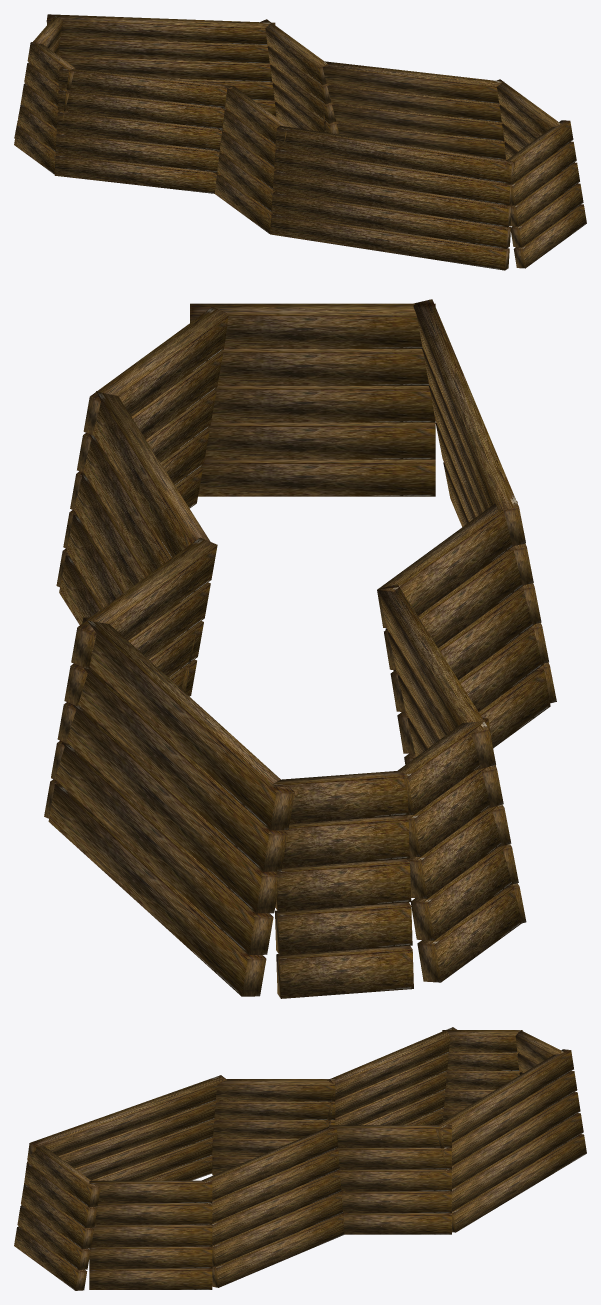
File: WoodenBarrierPartTest01.obj
3 views of the same model, one above another, from view 1: azimuth 30°, elevation 25°; view 2: azimuth 150°, elevation 25°; view 3: azimuth 270°, elevation 25° (orthographic). The views are drawn at different scales.
Parts seen in each view (by area): view 1: Box002; view 2: Box002; view 3: Box002.
Boxes of the visible parts, x1=… form: Box002: x1=14, y1=14, x2=586, y2=270; Box002: x1=44, y1=299, x2=556, y2=998; Box002: x1=14, y1=1027, x2=586, y2=1290.
Bounding box in the file's own units: 233 × 64.68 × 330.
